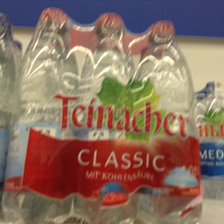water: (6, 6, 78, 224), (133, 20, 204, 224), (77, 10, 136, 224)
